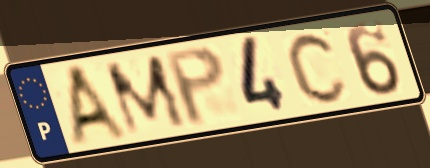4: (236, 33, 294, 119)
6: (343, 19, 404, 98)
A: (66, 61, 135, 147)
C: (285, 29, 352, 106)
M: (101, 51, 192, 140)
P: (160, 43, 228, 130)
